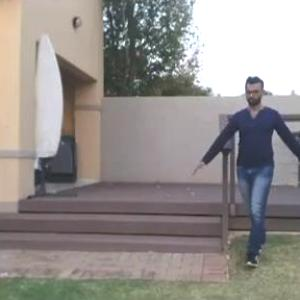land: (193, 76, 299, 270)
